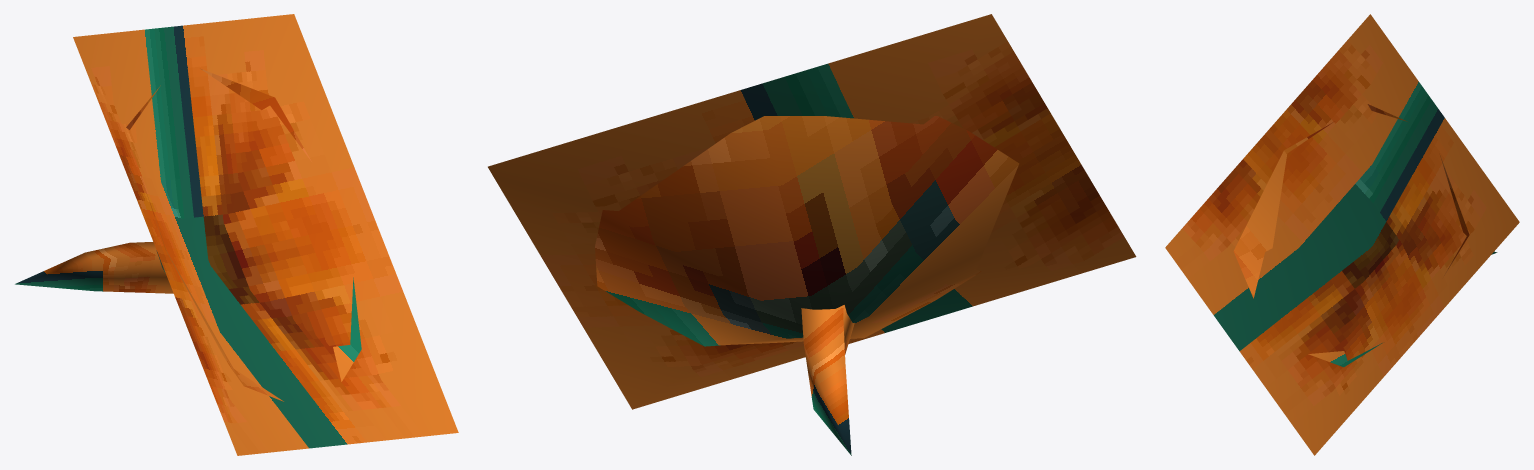
File: flw_cosmos_or_cap.dae
The picture shows the model from 3 angles, left to right: view 1: azimuth 30°, elevation 25°; view 2: azimuth 150°, elevation 25°; view 3: azimuth 270°, elevation 25°; orthographic projection. The views are drawn at different scales.
Visible parts, largest first — view 1: flw_cosmos_or_cap; view 2: flw_cosmos_or_cap; view 3: flw_cosmos_or_cap.
Part boxes in pixels (x1,y1,x2,y2): flw_cosmos_or_cap: [15, 14, 458, 455]; flw_cosmos_or_cap: [488, 14, 1136, 455]; flw_cosmos_or_cap: [1165, 14, 1519, 455].
Size of the model in its own units: 8.81 by 10.98 by 10.98.
Materials: 1 (1 with a texture image).
